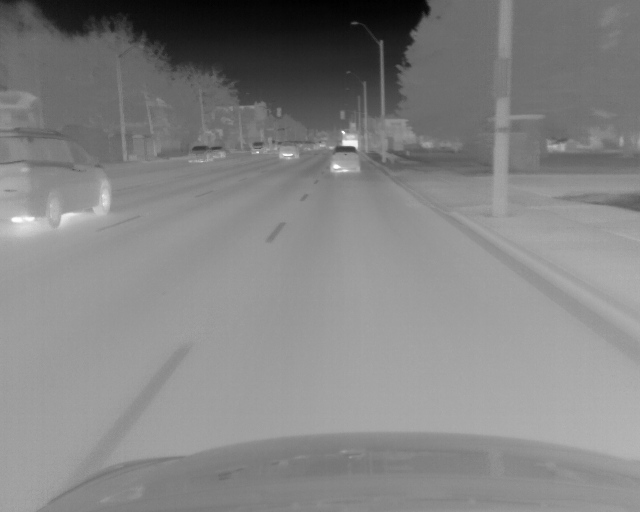car: (1, 129, 113, 229), (329, 145, 361, 174), (189, 145, 211, 163), (278, 144, 298, 160), (342, 129, 358, 148), (249, 142, 266, 156), (211, 145, 226, 159)
